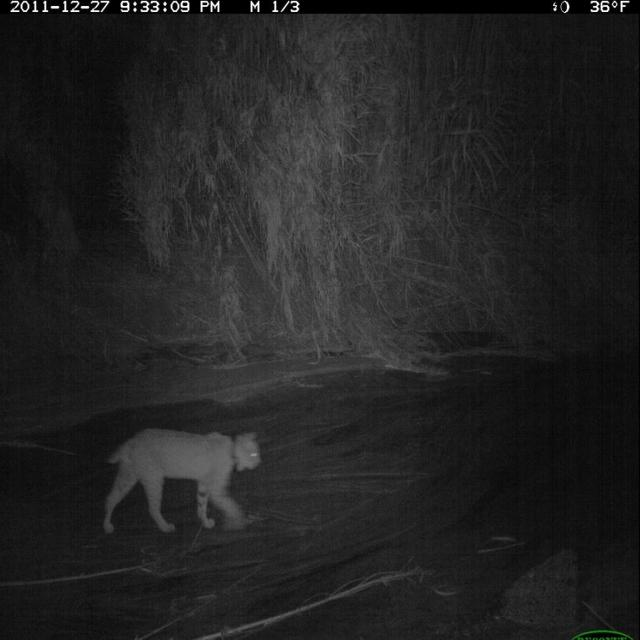bobcat: (88, 400, 279, 546)
